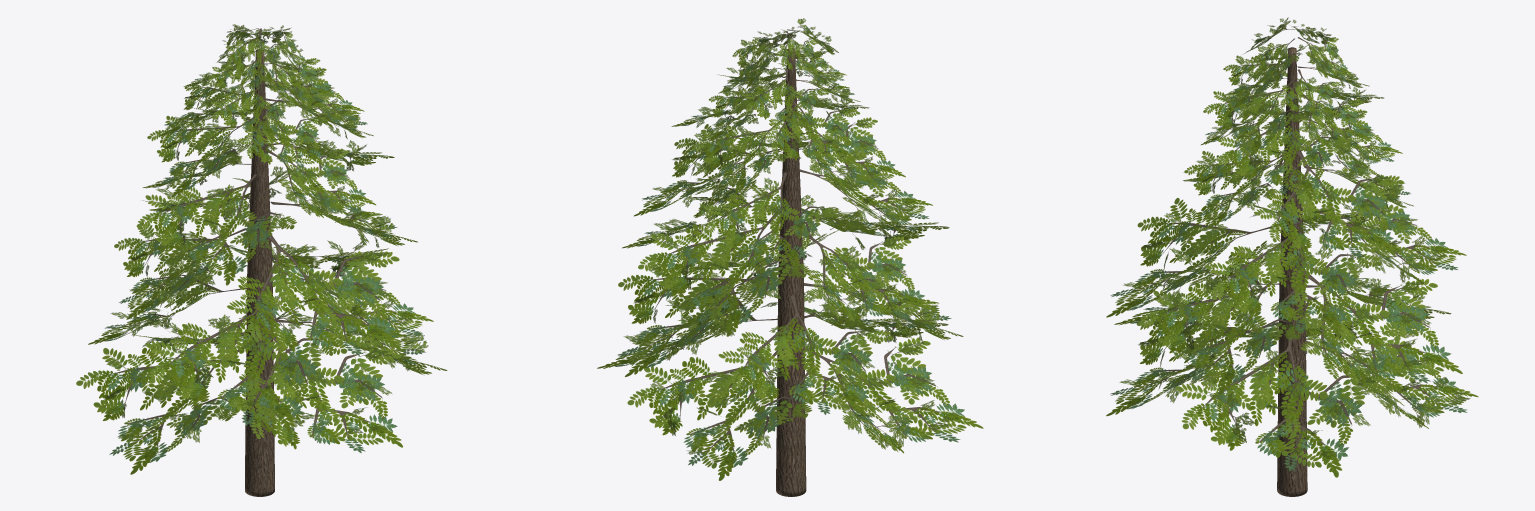
File: tree.glb
3 renders of one model, left to right at view 1: azimuth 30°, elevation 25°; view 2: azimuth 150°, elevation 25°; view 3: azimuth 270°, elevation 25°, orthographic.
Parts seen in each view (by area): view 1: tree; view 2: tree; view 3: tree.
Part boxes in pixels (bbox=[...]): tree: bbox=[76, 24, 447, 496]; tree: bbox=[597, 18, 983, 496]; tree: bbox=[1106, 17, 1478, 496].
Size of the model in its own units: 1326 by 1492 by 1338.
Materials: 2 (2 with a texture image).
